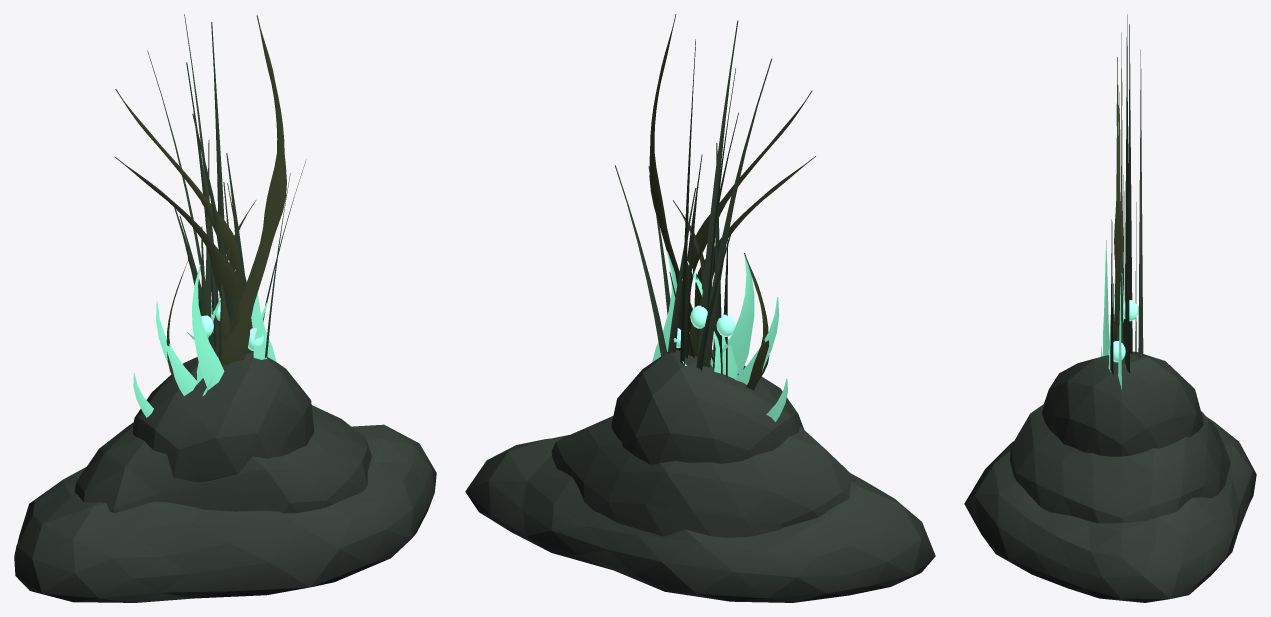
The model's file is nature.glb.
3 renders of one model, left to right at view 1: azimuth 30°, elevation 25°; view 2: azimuth 150°, elevation 25°; view 3: azimuth 270°, elevation 25°, orthographic. The views are drawn at different scales.
Visible parts, largest first — view 1: rock_c, rock_a, rock_b, kelp_a, plant_clean, reed_c, reed_a, kelp_b; view 2: rock_c, rock_a, rock_b, reed_c, plant_clean, kelp_a, reed_a, kelp_b; view 3: rock_c, rock_a, rock_b, reed_c, kelp_a, plant_clean, reed_a.
Part boxes in pixels (<box>): rock_c: <box>14,424,436,602</box>; rock_a: <box>74,405,371,513</box>; rock_b: <box>133,351,314,481</box>; kelp_a: <box>114,15,286,365</box>; plant_clean: <box>133,264,276,417</box>; reed_c: <box>147,14,290,358</box>; reed_a: <box>174,140,306,365</box>; kelp_b: <box>166,200,256,396</box>; rock_c: <box>465,435,935,602</box>; rock_a: <box>551,416,856,537</box>; rock_b: <box>611,349,803,464</box>; reed_c: <box>648,20,771,370</box>; plant_clean: <box>652,251,787,421</box>; kelp_a: <box>649,14,815,361</box>; reed_a: <box>615,143,728,376</box>; kelp_b: <box>673,200,769,390</box>; rock_c: <box>964,417,1256,602</box>; rock_a: <box>1010,404,1230,523</box>; rock_b: <box>1042,351,1203,456</box>; reed_c: <box>1110,14,1143,374</box>; kelp_a: <box>1113,32,1123,344</box>; plant_clean: <box>1100,240,1141,389</box>; reed_a: <box>1113,166,1130,372</box>.
Bounding box in the file's own units: 3.62 × 4.34 × 2.37.
